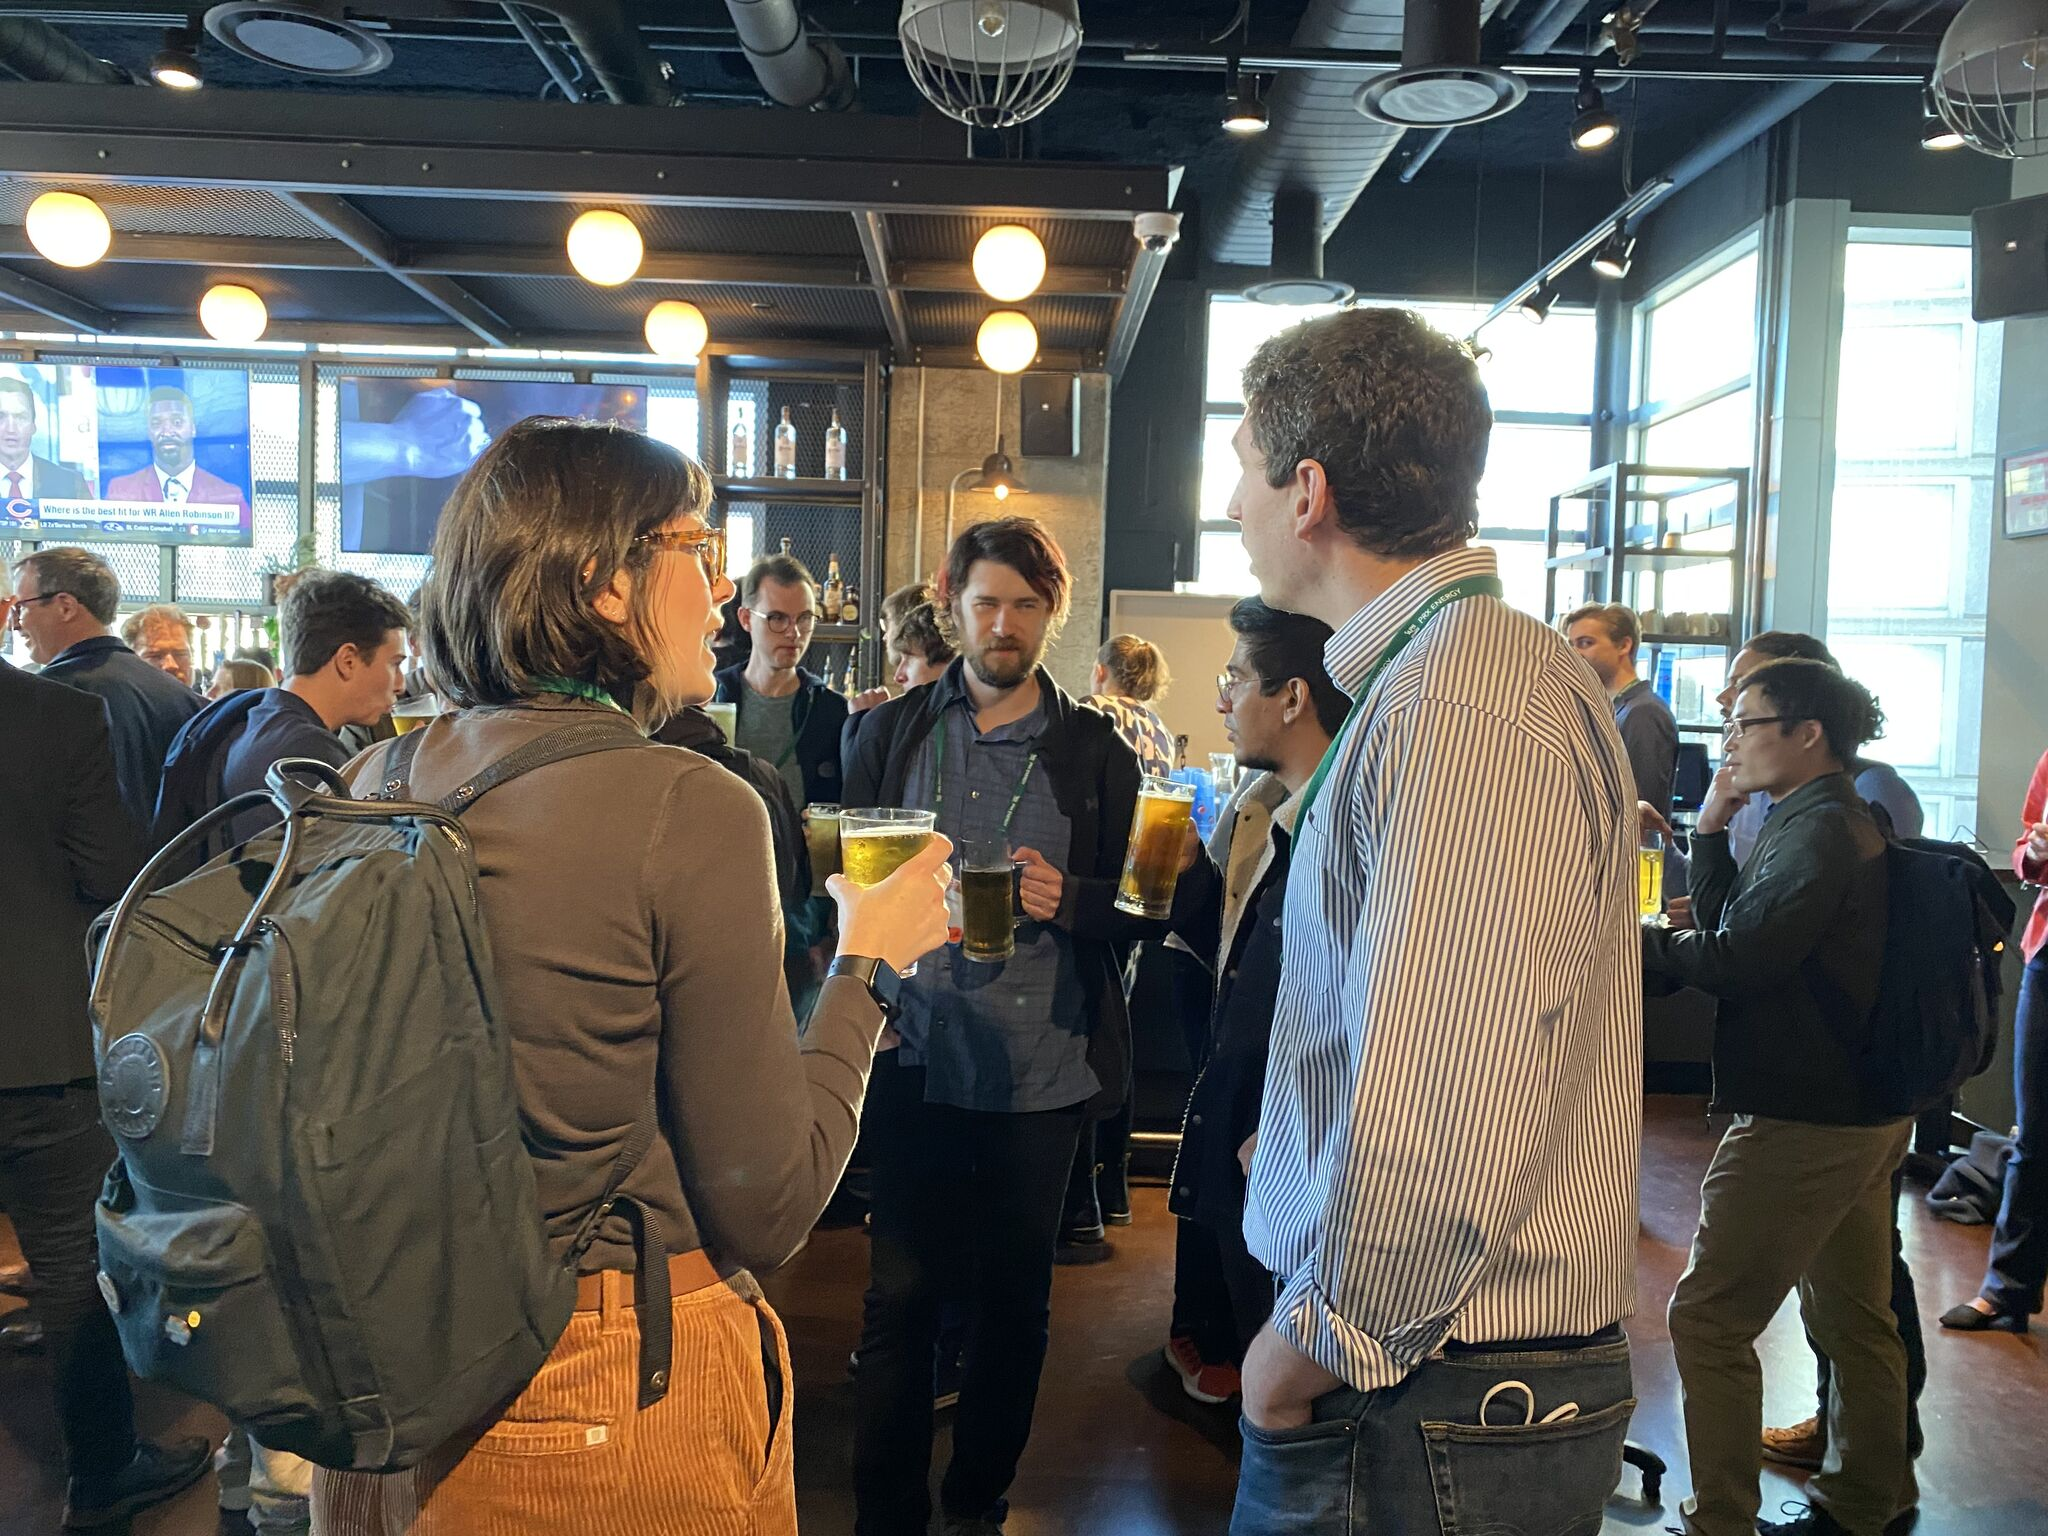without_mask: (663, 517, 737, 704), (1211, 663, 1280, 769), (968, 591, 1045, 668), (1719, 709, 1783, 789), (760, 607, 822, 663), (370, 642, 408, 732)
